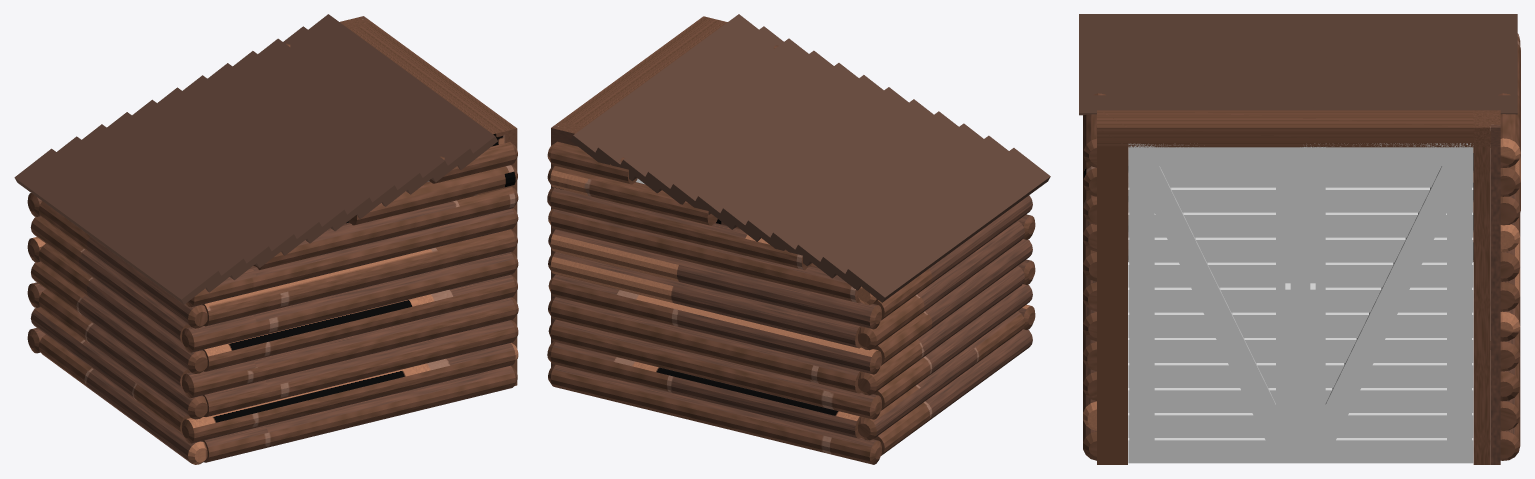
Rendered from Shed1.fbx.
The picture shows the model from 3 angles, left to right: view 1: azimuth 30°, elevation 25°; view 2: azimuth 150°, elevation 25°; view 3: azimuth 270°, elevation 25°; orthographic projection. The views are drawn at different scales.
Parts seen in each view (by area): view 1: Shed; view 2: Shed; view 3: Shed, DoorRight, DoorLeft.
Boxes of the visible parts, box(x1,y1,x2,y2) form: Shed: box(14, 14, 518, 464); Shed: box(547, 14, 1050, 464); Shed: box(1079, 14, 1520, 464); DoorRight: box(1300, 143, 1473, 463); DoorLeft: box(1128, 143, 1300, 463).
Bounding box in the file's own units: 652 × 463 × 539.
